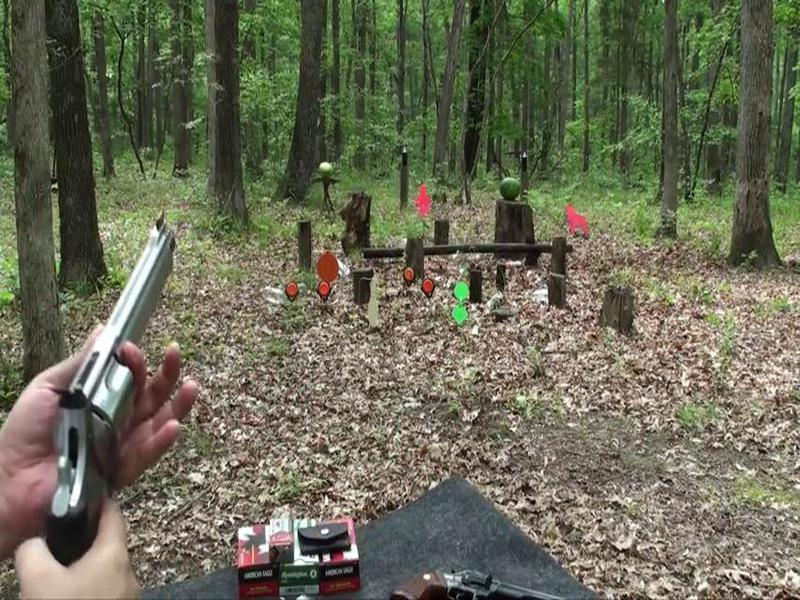Revolver: (18, 187, 228, 577)
